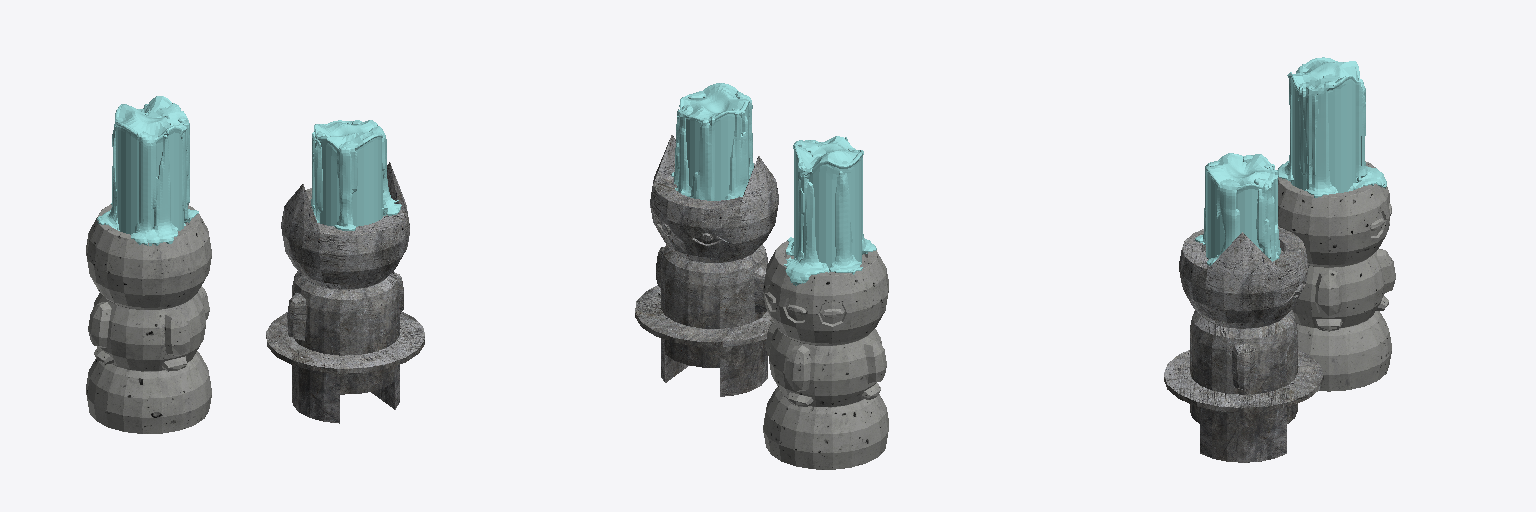
3 views of the same model, side by side, from view 1: azimuth 30°, elevation 25°; view 2: azimuth 150°, elevation 25°; view 3: azimuth 270°, elevation 25° (orthographic).
Parts seen in each view (by area): view 1: candle2_PB_Pillar_Candle_Ivory_036; view 2: candle2_PB_Pillar_Candle_Ivory_036; view 3: candle2_PB_Pillar_Candle_Ivory_036.
Part boxes in pixels (left/top/right/bottom): candle2_PB_Pillar_Candle_Ivory_036: left=86, top=96, right=424, bottom=433; candle2_PB_Pillar_Candle_Ivory_036: left=635, top=83, right=888, bottom=469; candle2_PB_Pillar_Candle_Ivory_036: left=1164, top=57, right=1395, bottom=462.
Size of the model in its own units: 1.53 by 1.56 by 1.1.
Materials: 3 (2 with a texture image).